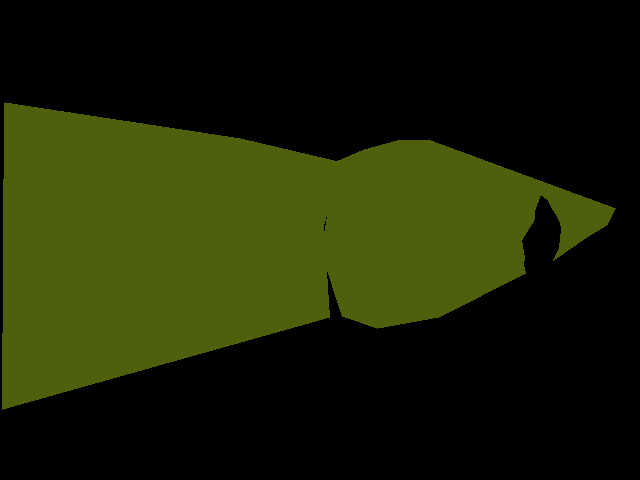Train: (2, 102, 343, 410), (321, 140, 616, 328)
